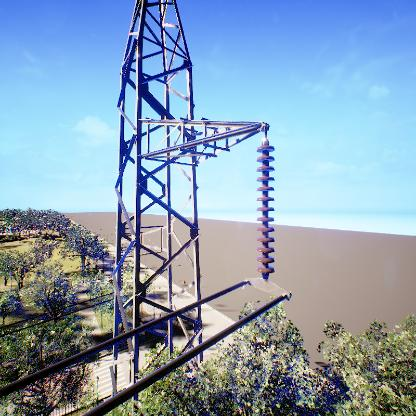insulator: (256, 142, 278, 278)
